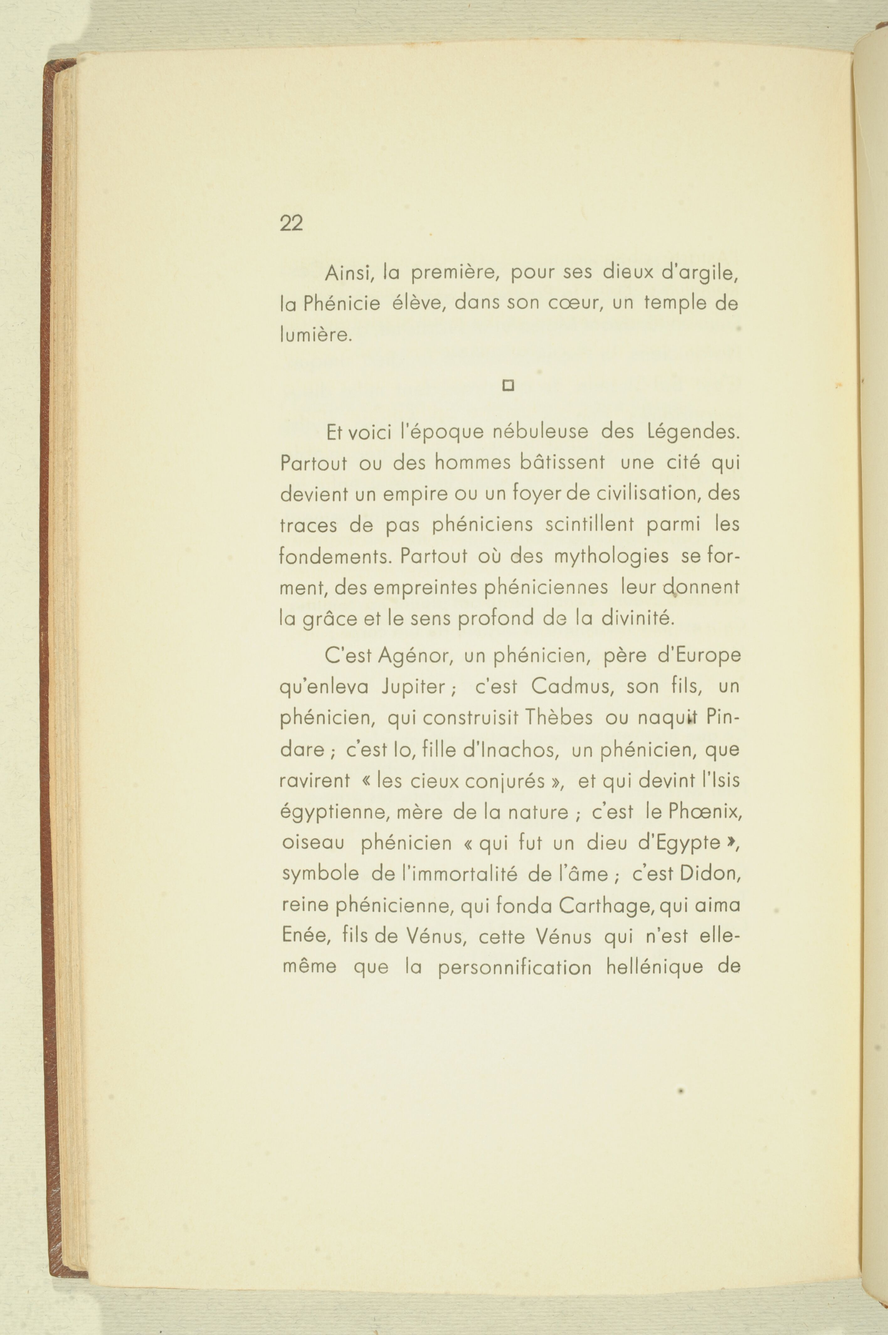InterligneAsterisque: (459, 352, 531, 411)
LigneDeProse: (257, 420, 783, 989), (236, 255, 779, 349)
N°Page: (260, 190, 326, 252)
